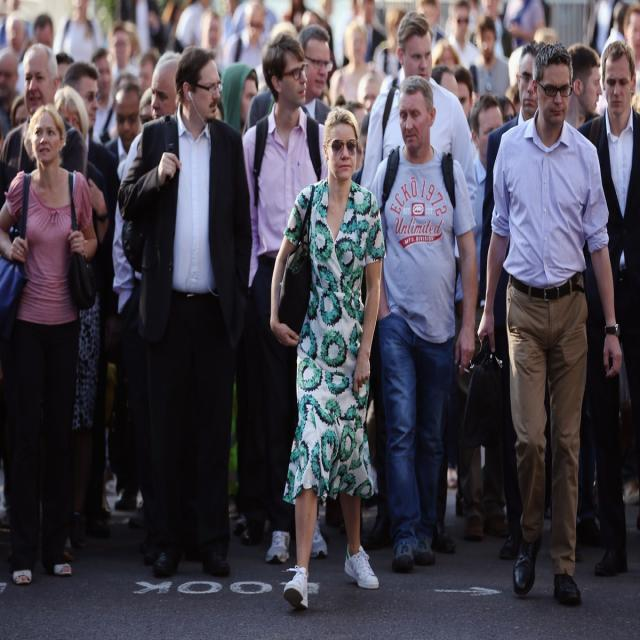body: (459, 36, 626, 615), (115, 41, 252, 582), (356, 5, 479, 549), (265, 105, 384, 616), (484, 37, 597, 566), (369, 74, 481, 571), (0, 100, 100, 591), (240, 26, 330, 568), (481, 39, 549, 560), (111, 48, 184, 522), (576, 39, 640, 578), (226, 0, 512, 116), (60, 59, 122, 526), (1, 0, 122, 162), (511, 0, 640, 125), (0, 39, 89, 212), (122, 0, 227, 125), (328, 16, 387, 106), (561, 41, 604, 130), (468, 13, 511, 100), (102, 80, 143, 162), (218, 62, 260, 135), (52, 84, 90, 142), (349, 118, 370, 184)
